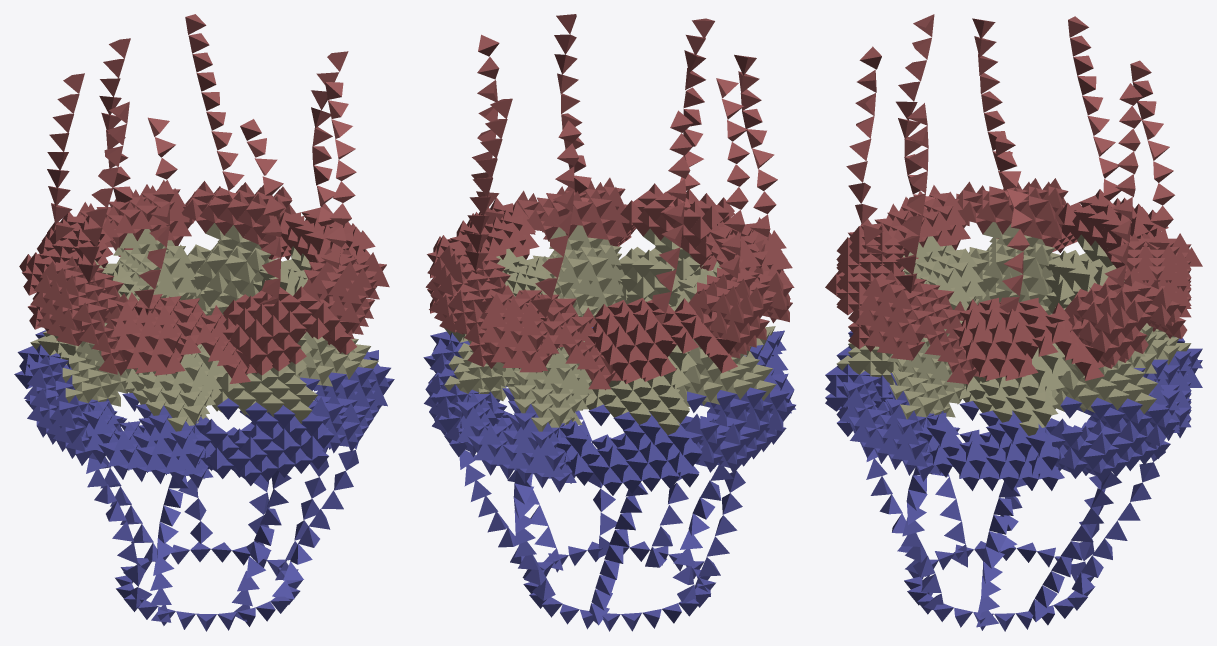
File: customMassing_NuclearPore_240712.fbx
3 renders of one model, left to right at view 1: azimuth 30°, elevation 25°; view 2: azimuth 150°, elevation 25°; view 3: azimuth 270°, elevation 25°, orthographic. The views are drawn at different scales.
Visible parts, largest first — view 1: Subsection04, Subsection03, Subsection05, Subsection02, Subsection08, Subsection07, Subsection06, Subsection01, Ring, TopHelix04, TopHelix07, TopHelix08 (+13 smaller); view 2: Subsection06, Subsection07, Subsection05, Subsection08, Subsection02, Subsection03, Subsection04, Subsection01, Ring, TopHelix02, TopHelix08, TopHelix01 (+13 smaller); view 3: Subsection01, Subsection08, Subsection02, Subsection05, Subsection07, Subsection03, Subsection06, Subsection04, Ring, TopHelix04, TopHelix02, TopHelix07 (+12 smaller).
Part boxes in pixels (x1=…): Subsection04: x1=78, y1=292, x2=256, y2=488; Subsection03: x1=193, y1=286, x2=356, y2=485; Subsection05: x1=24, y1=256, x2=136, y2=465; Subsection02: x1=292, y1=247, x2=394, y2=453; Subsection08: x1=181, y1=181, x2=295, y2=319; Subsection07: x1=74, y1=180, x2=201, y2=300; Subsection06: x1=14, y1=212, x2=140, y2=409; Subsection01: x1=252, y1=203, x2=379, y2=391; Ring: x1=115, y1=542, x2=302, y2=631; TopHelix04: x1=185, y1=14, x2=244, y2=200; TopHelix07: x1=240, y1=119, x2=284, y2=304; TopHelix08: x1=134, y1=117, x2=177, y2=315; Subsection06: x1=556, y1=298, x2=737, y2=495; Subsection07: x1=452, y1=285, x2=621, y2=492; Subsection05: x1=676, y1=267, x2=795, y2=473; Subsection08: x1=424, y1=243, x2=515, y2=456; Subsection02: x1=513, y1=177, x2=629, y2=328; Subsection03: x1=616, y1=183, x2=734, y2=306; Subsection04: x1=671, y1=217, x2=795, y2=413; Subsection01: x1=423, y1=197, x2=559, y2=387; Ring: x1=523, y1=541, x2=715, y2=631; TopHelix02: x1=652, y1=110, x2=693, y2=323; TopHelix08: x1=734, y1=54, x2=777, y2=251; TopHelix01: x1=716, y1=78, x2=749, y2=289; Subsection01: x1=914, y1=297, x2=1104, y2=490; Subsection08: x1=1045, y1=274, x2=1187, y2=482; Subsection02: x1=839, y1=270, x2=985, y2=481; Subsection05: x1=955, y1=178, x2=1068, y2=314; Subsection07: x1=1088, y1=233, x2=1202, y2=440; Subsection03: x1=825, y1=226, x2=924, y2=436; Subsection06: x1=1045, y1=189, x2=1184, y2=342; Subsection04: x1=848, y1=185, x2=986, y2=337; Ring: x1=904, y1=541, x2=1095, y2=631; TopHelix04: x1=1104, y1=83, x2=1142, y2=301; TopHelix02: x1=1068, y1=16, x2=1121, y2=206; TopHelix07: x1=846, y1=46, x2=887, y2=258.
Size of the model in its own units: 151252 by 236723 by 151252.
